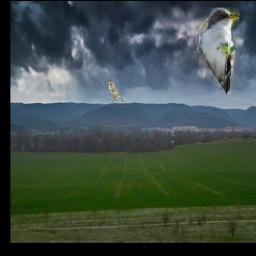Cuckoo: (200, 8, 240, 94)
Sparrow: (108, 81, 125, 103)
